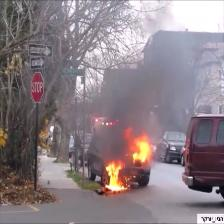fire: (122, 127, 154, 169), (107, 162, 125, 190)
smoke: (125, 57, 194, 119)
